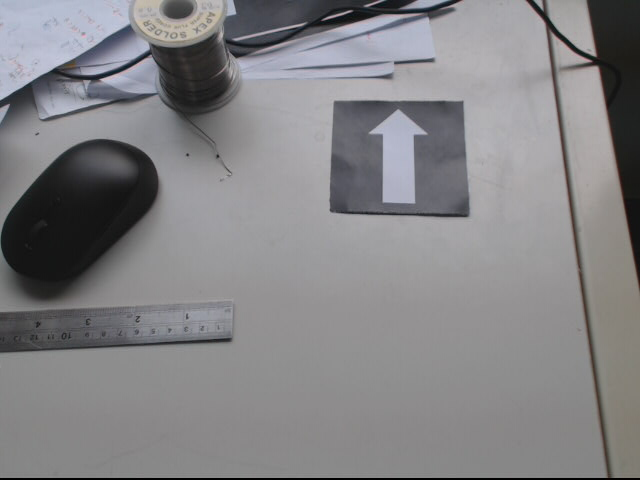straight: (331, 99, 469, 219)
